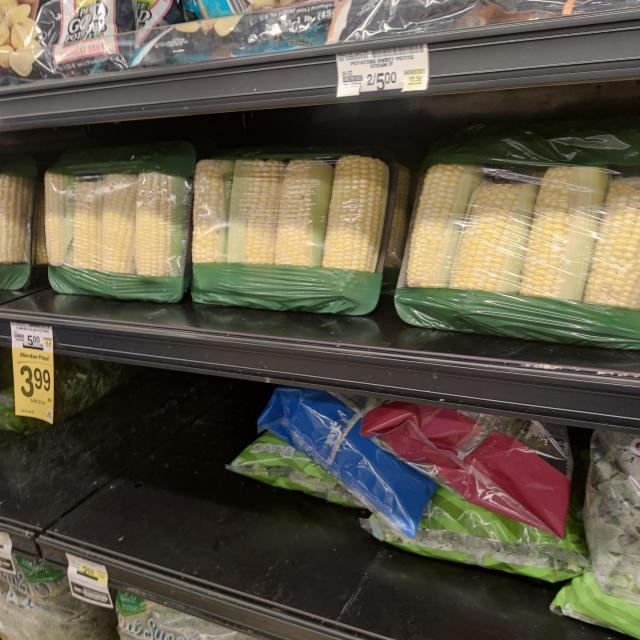Corn: (404, 141, 640, 342), (188, 152, 396, 314), (47, 166, 192, 300)
